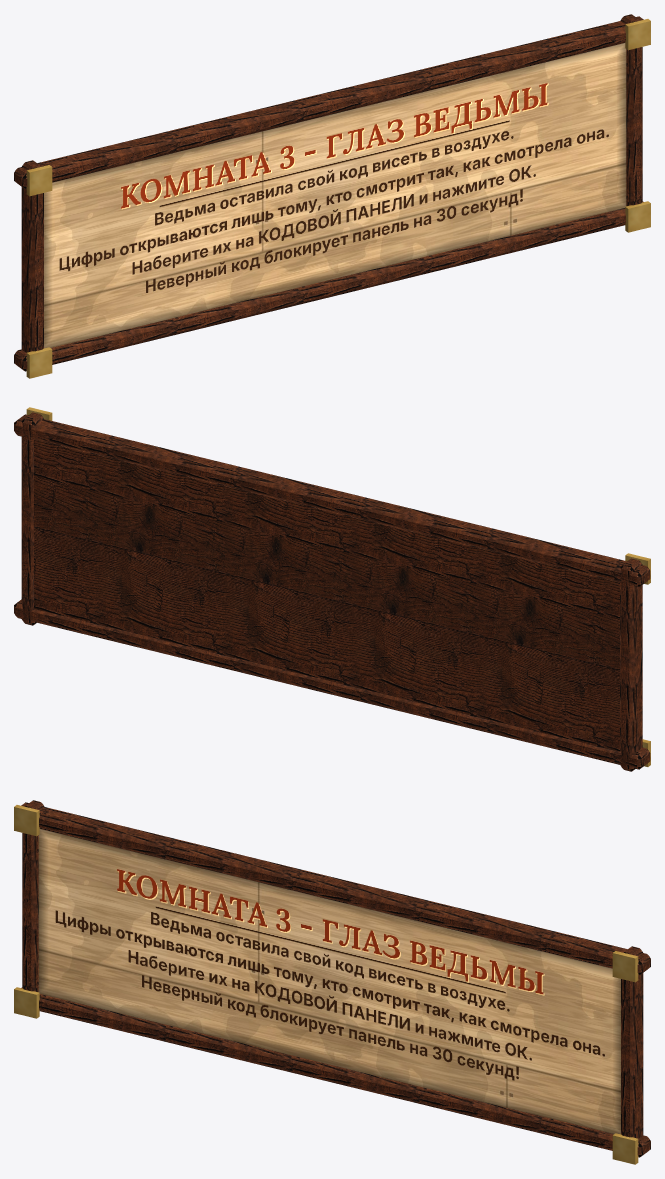
Rendered from sg_ru_esc_r3.glb.
3 renders of one model, top to bottom at view 1: azimuth 30°, elevation 25°; view 2: azimuth 150°, elevation 25°; view 3: azimuth 330°, elevation 25°, orthographic.
Visible parts, largest first — view 1: spire; view 2: spire; view 3: spire.
Boxes of the visible parts, x1,y1,x2,y2 form: spire: (14,14,650,378); spire: (14,407,650,771); spire: (14,800,650,1164).
Size of the model in its own units: 4.96 by 1.55 by 0.19.
3 materials, 3 textured.
